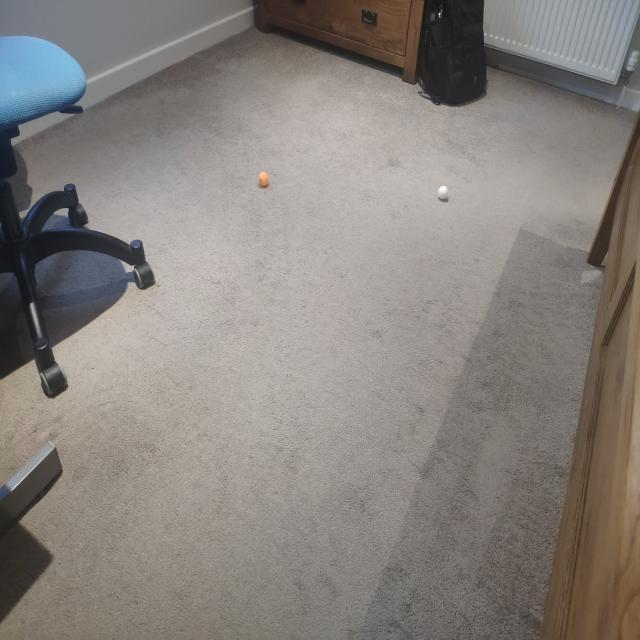oball: (437, 184, 450, 204), (256, 171, 270, 188)
